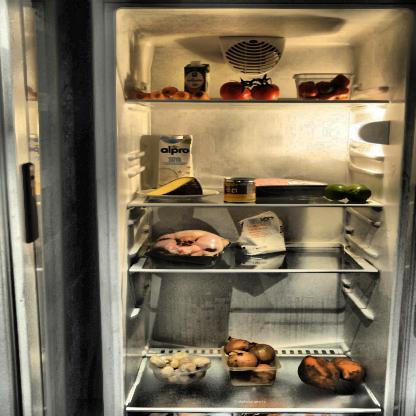carrot: (136, 86, 212, 100)
cheese: (146, 176, 203, 198)
chicken: (152, 229, 230, 265)
corn: (223, 177, 256, 203)
ground_beef: (232, 177, 330, 199)
heavy_cream: (183, 61, 209, 97)
lime: (323, 184, 372, 202)
milk: (159, 134, 193, 190)
mushrooms: (143, 350, 215, 383)
onion: (223, 336, 280, 385)
strawberries: (298, 74, 352, 102)
sweet_potato: (298, 354, 370, 391)
tomato: (217, 74, 285, 101)
